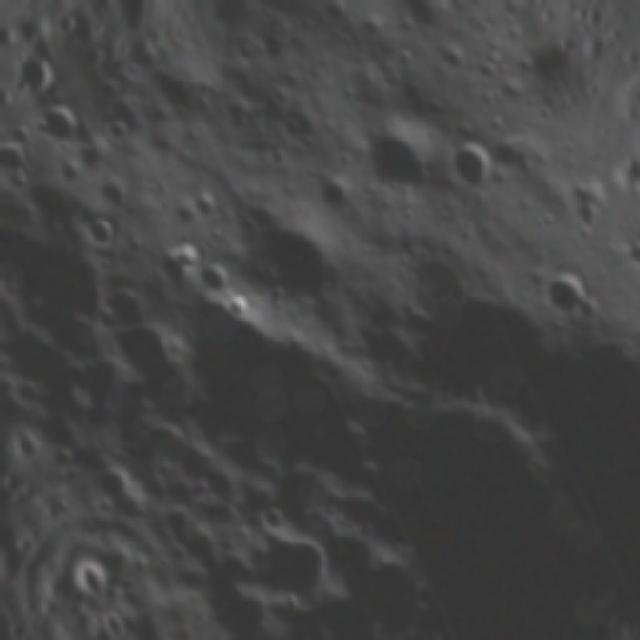crater: (246, 202, 360, 322), (339, 102, 453, 218), (526, 243, 622, 340), (440, 130, 508, 204), (387, 0, 470, 49), (28, 94, 90, 155), (78, 208, 128, 262), (214, 283, 266, 331), (182, 178, 232, 227), (190, 257, 238, 305), (91, 172, 137, 218), (50, 148, 96, 194), (96, 108, 142, 154), (253, 497, 293, 540), (95, 53, 143, 84)
